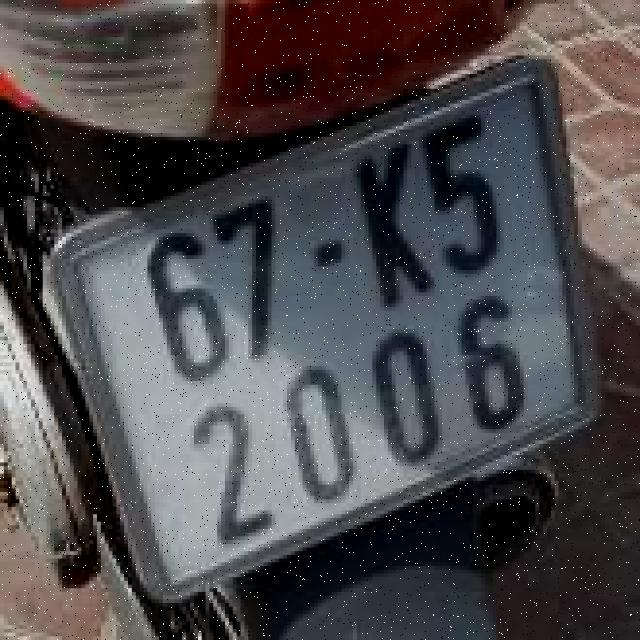0: (355, 308, 460, 483), (272, 356, 368, 513)
2: (180, 382, 288, 553)
5: (414, 109, 521, 282)
6: (130, 222, 242, 395), (446, 285, 545, 446)
7: (209, 183, 303, 377)
K: (341, 136, 442, 317)
